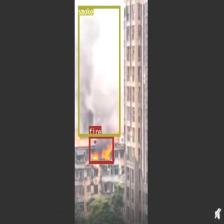fire: (89, 135, 114, 163)
smoke: (78, 5, 120, 136)
